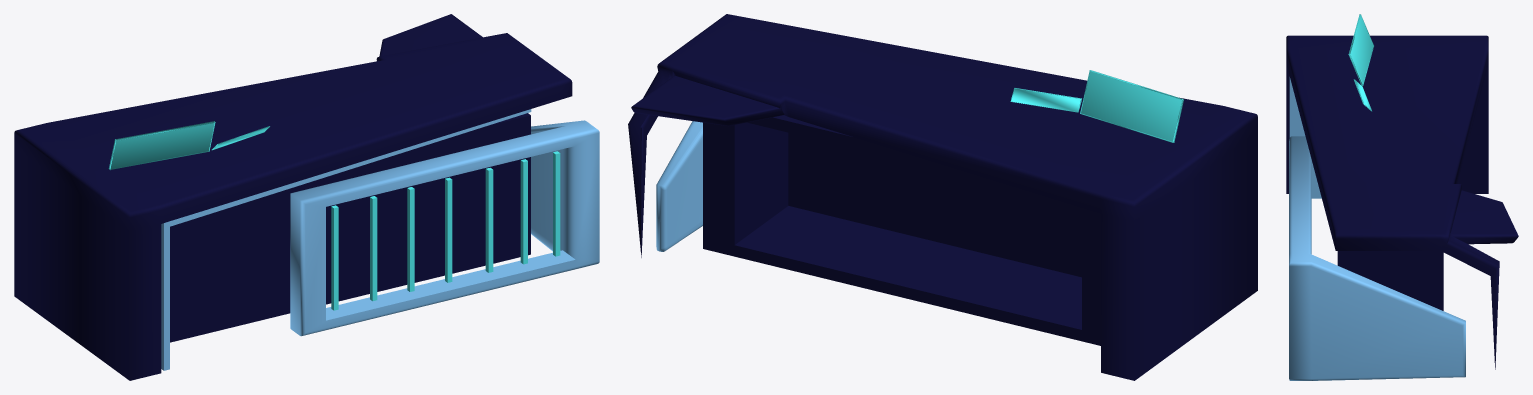
Rendered from bureau d_accueil.fbx.
The picture shows the model from 3 angles, left to right: view 1: azimuth 30°, elevation 25°; view 2: azimuth 150°, elevation 25°; view 3: azimuth 270°, elevation 25°; orthographic projection. The views are drawn at different scales.
Parts seen in each view (by area): view 1: Box003; view 2: Box003; view 3: Box003.
Boxes of the visible parts, x1,y1,x2,y2 form: Box003: (14,14,599,380); Box003: (628,14,1257,380); Box003: (1286,14,1518,380).
Bounding box in the file's own units: 63.28 × 26.17 × 30.85.
